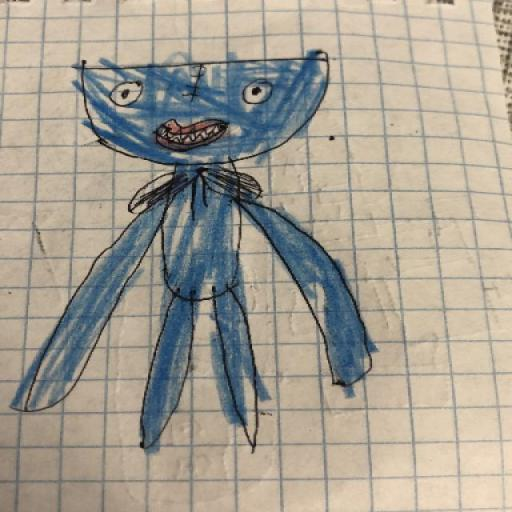person: (12, 52, 375, 453)
